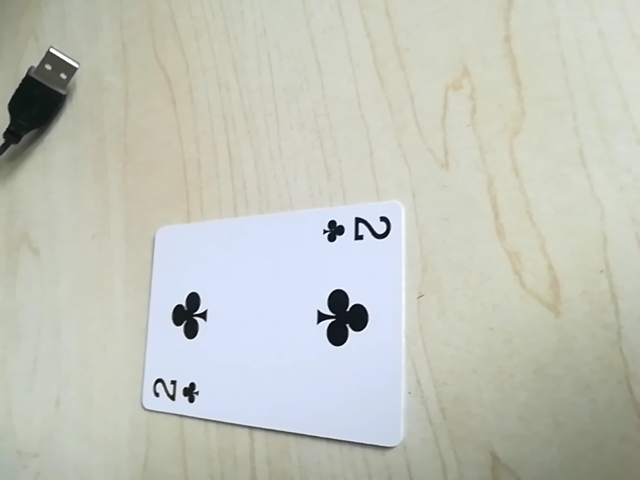mh 2: (318, 208, 396, 251), (146, 370, 207, 411)
